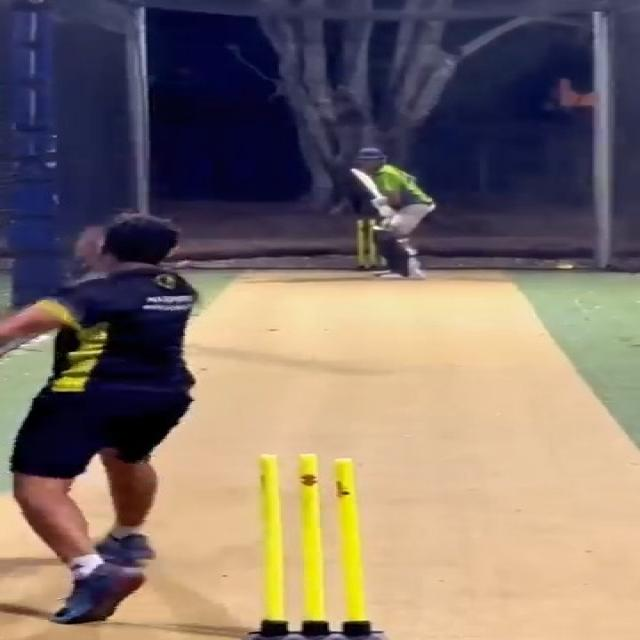stump: (237, 451, 384, 640)
